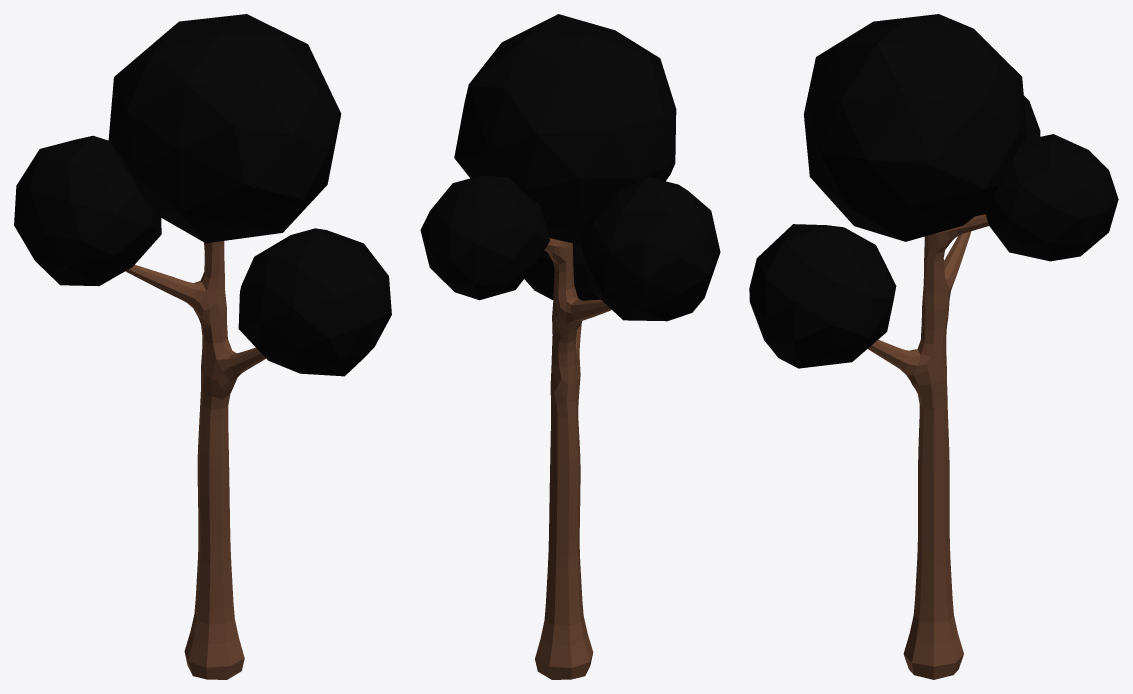
The model's file is Tree_Foliage_Small-2.fbx.
The picture shows the model from 3 angles, left to right: view 1: azimuth 30°, elevation 25°; view 2: azimuth 150°, elevation 25°; view 3: azimuth 270°, elevation 25°; orthographic projection. The views are drawn at different scales.
Visible parts, largest first — view 1: Tree_Foliage_Small-2; view 2: Tree_Foliage_Small-2; view 3: Tree_Foliage_Small-2.
Part boxes in pixels (x1=…): Tree_Foliage_Small-2: x1=14, y1=14, x2=391, y2=679; Tree_Foliage_Small-2: x1=420, y1=14, x2=720, y2=679; Tree_Foliage_Small-2: x1=749, y1=14, x2=1118, y2=679.
Size of the model in its own units: 0.5545 by 1.21 by 0.622.
